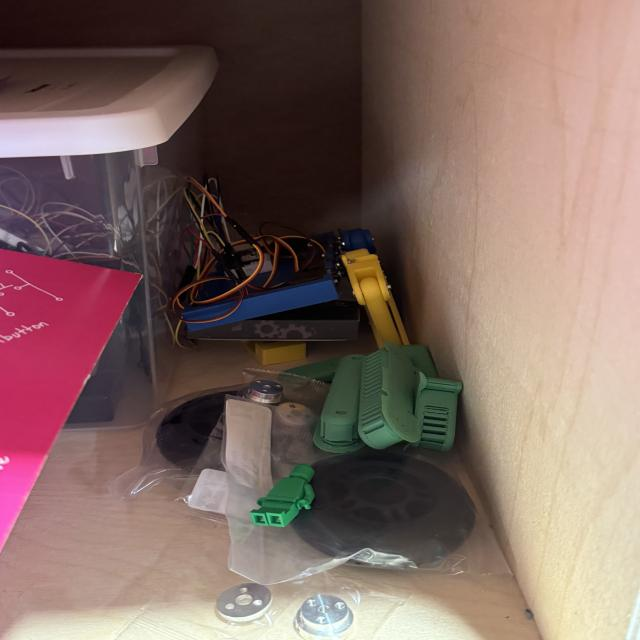Green Mini Figure: (245, 456, 325, 533)
